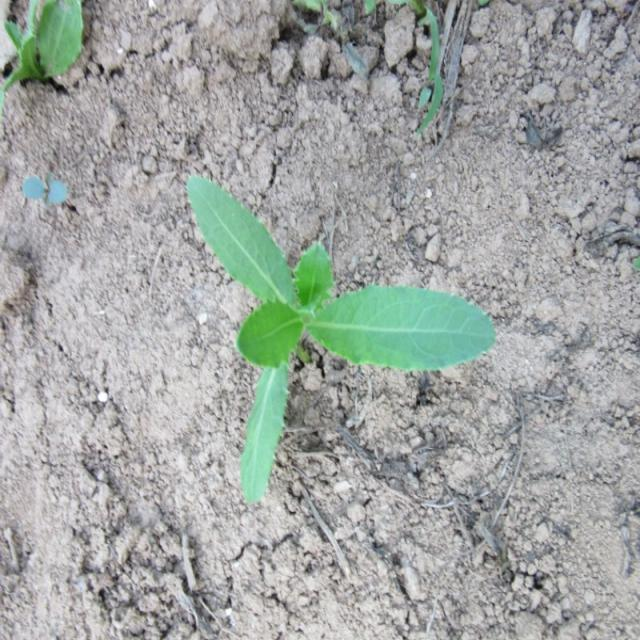cs: (186, 170, 497, 504)
